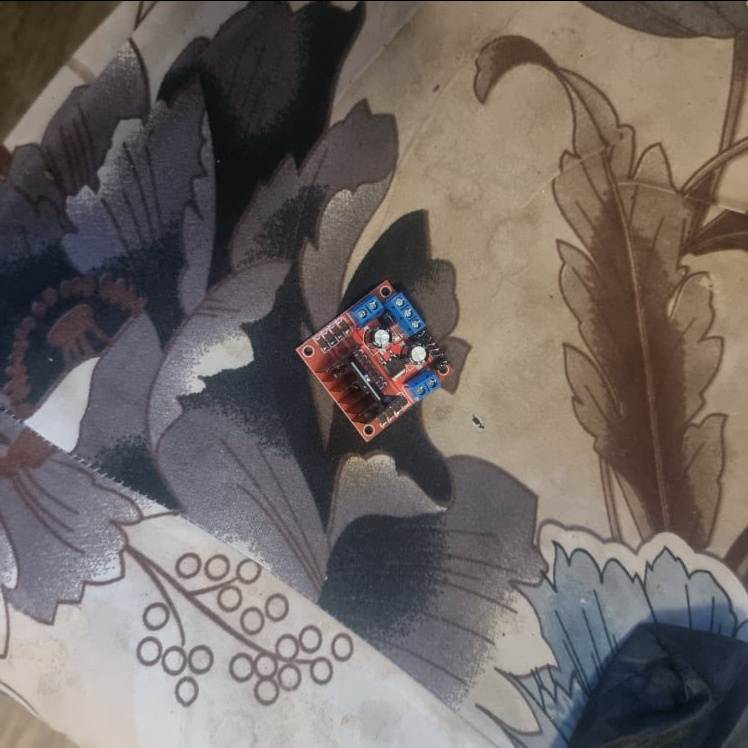MOTOR: (295, 279, 451, 443)
